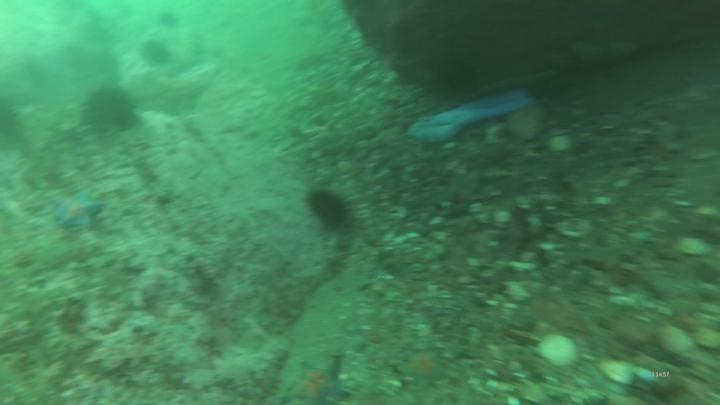echinus: (81, 85, 136, 134), (305, 187, 353, 234), (141, 40, 175, 69)
starfish: (286, 357, 353, 405), (394, 350, 455, 396), (51, 190, 105, 231)
